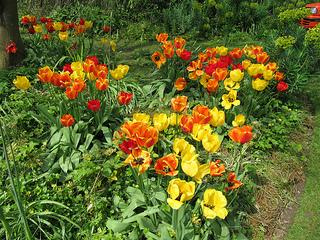tulip: (155, 154, 178, 177), (228, 124, 253, 145), (136, 127, 158, 148), (194, 105, 212, 125), (171, 95, 188, 114), (180, 115, 194, 133), (86, 99, 101, 111)
